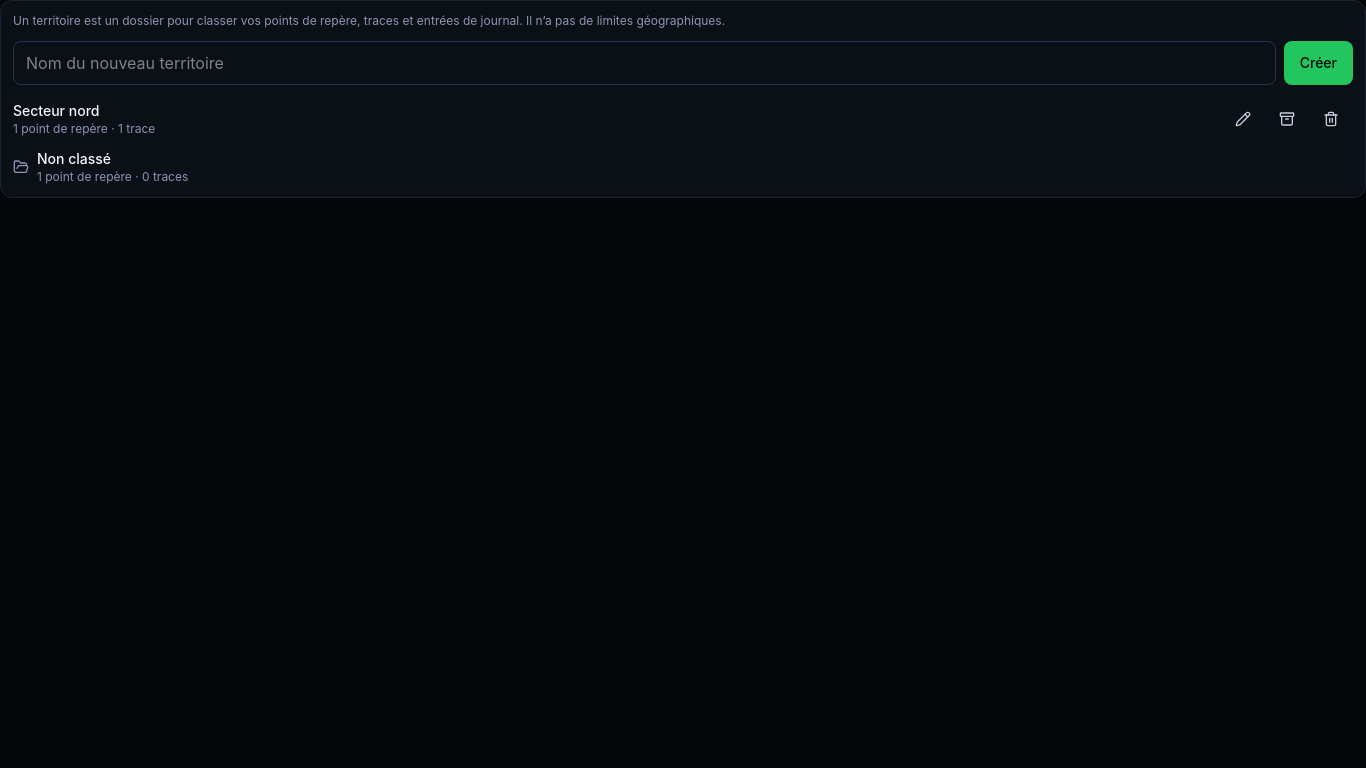
TerritoryManager › deleting asks for confirmation, states the number of items, and offers only to move them
Click the button named "Supprimer Secteur nord".
click(1331, 119)  # box [1309,97,1353,141]
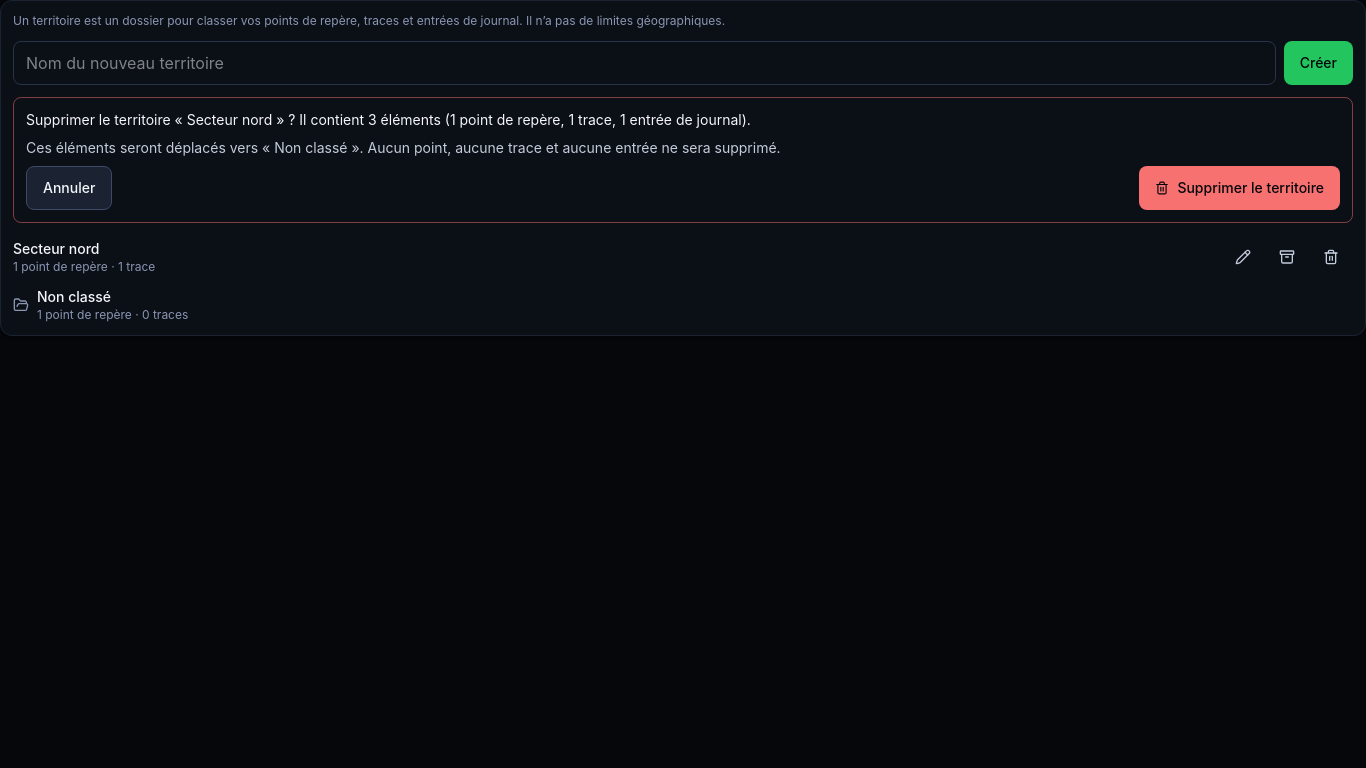
Now the dialog shows "3 éléments", box [368,111,441,128]
Now the dialog shows "1 point de repère", box [450,111,560,128]
Now the dialog shows "1 trace", box [568,111,612,128]
Note: Cancel keeps the territory.
Click the button "Annuler".
click(69, 188)  # box [26,166,112,210]
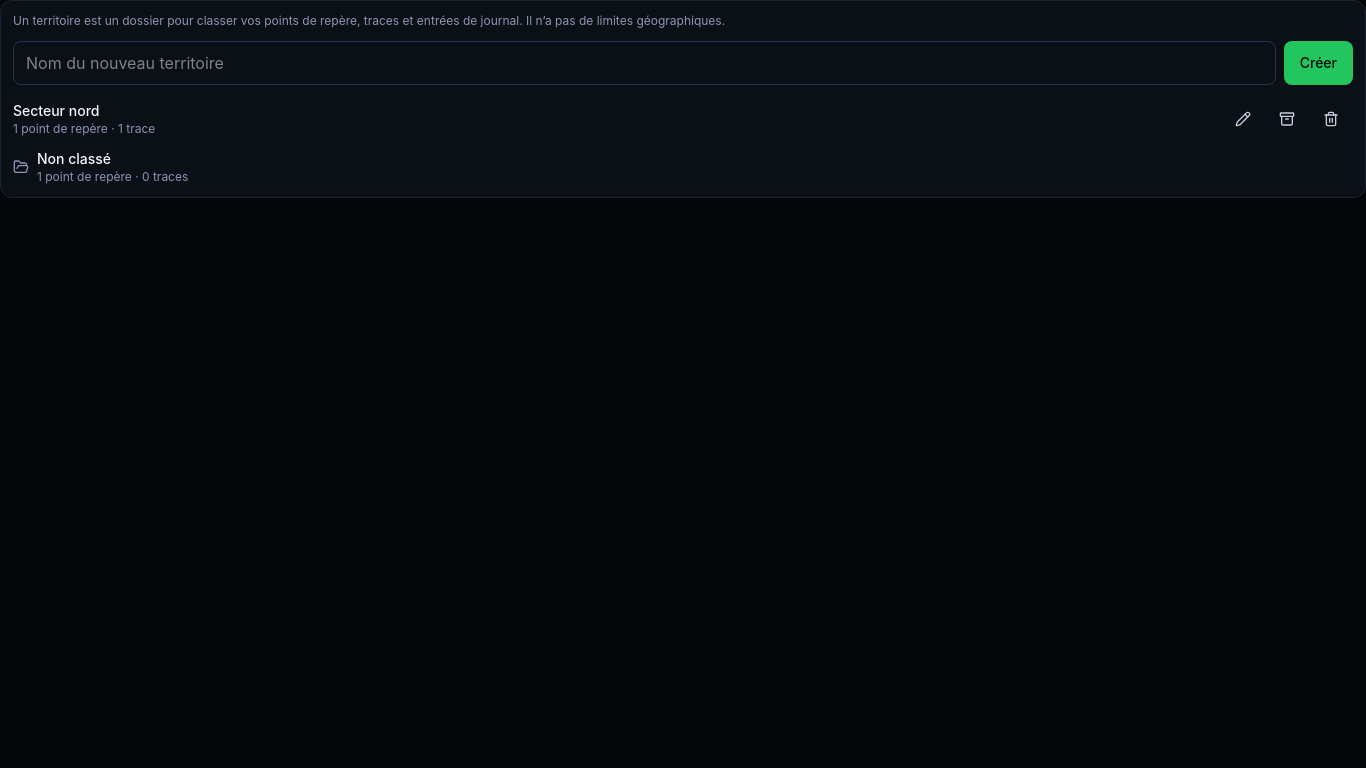
Now the dialog is gone
Note: Confirm moves everything to « Non classé » and deletes no data.
Click the button named "Supprimer Secteur nord".
click(1331, 119)  # box [1309,97,1353,141]
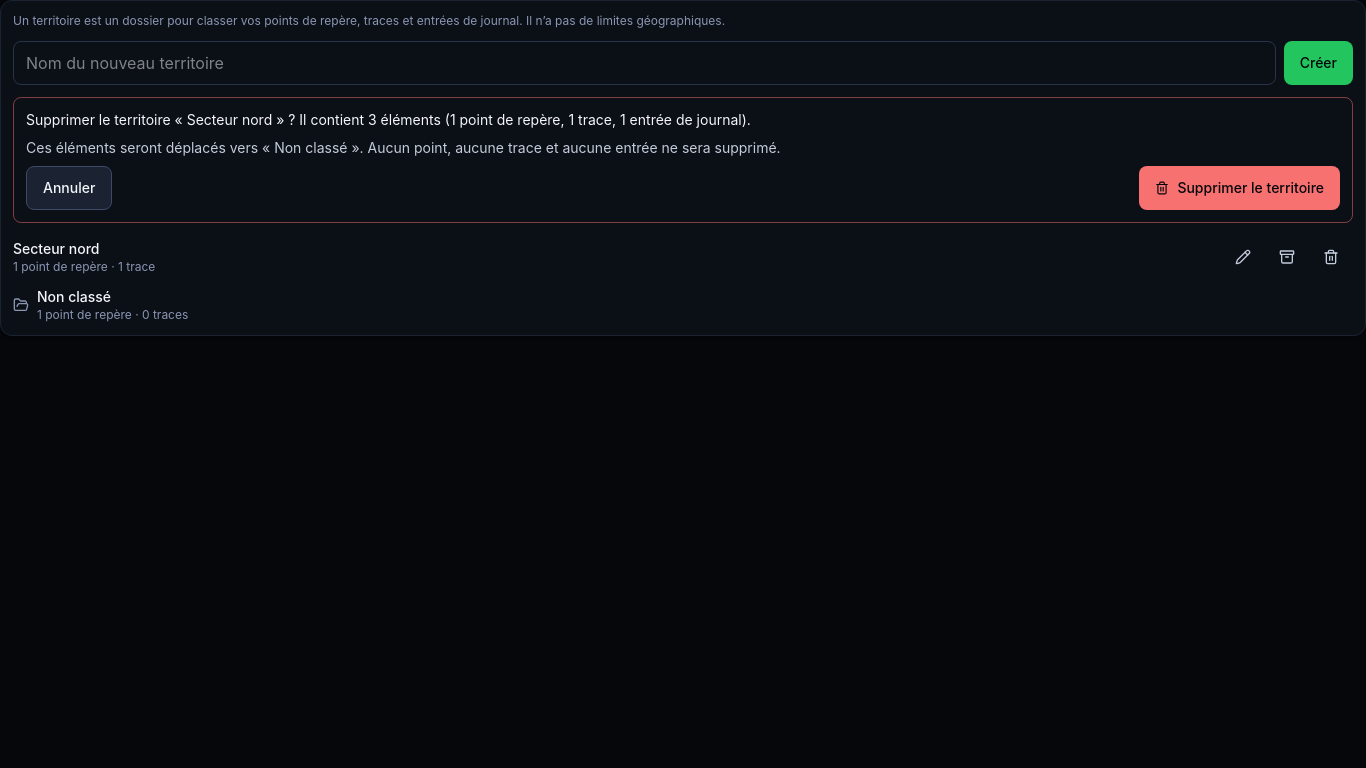
Click the button "Supprimer le territoire".
click(1240, 188)  # box [1139,166,1340,210]
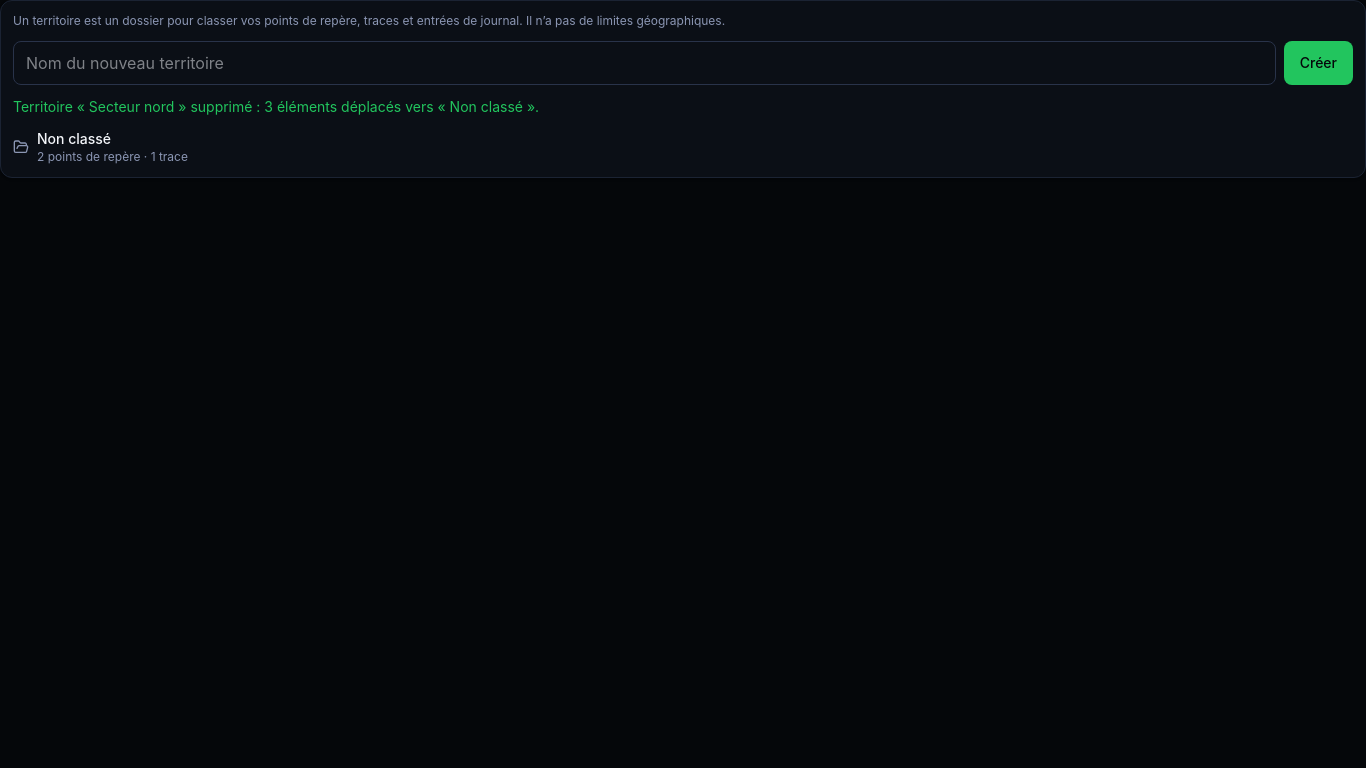
Now the message shows "3 éléments déplacés vers « Non classé »", box [13,98,539,115]
Now the list item with test id "unclassified-row" shows "2 points de repère", box [37,149,188,164]
